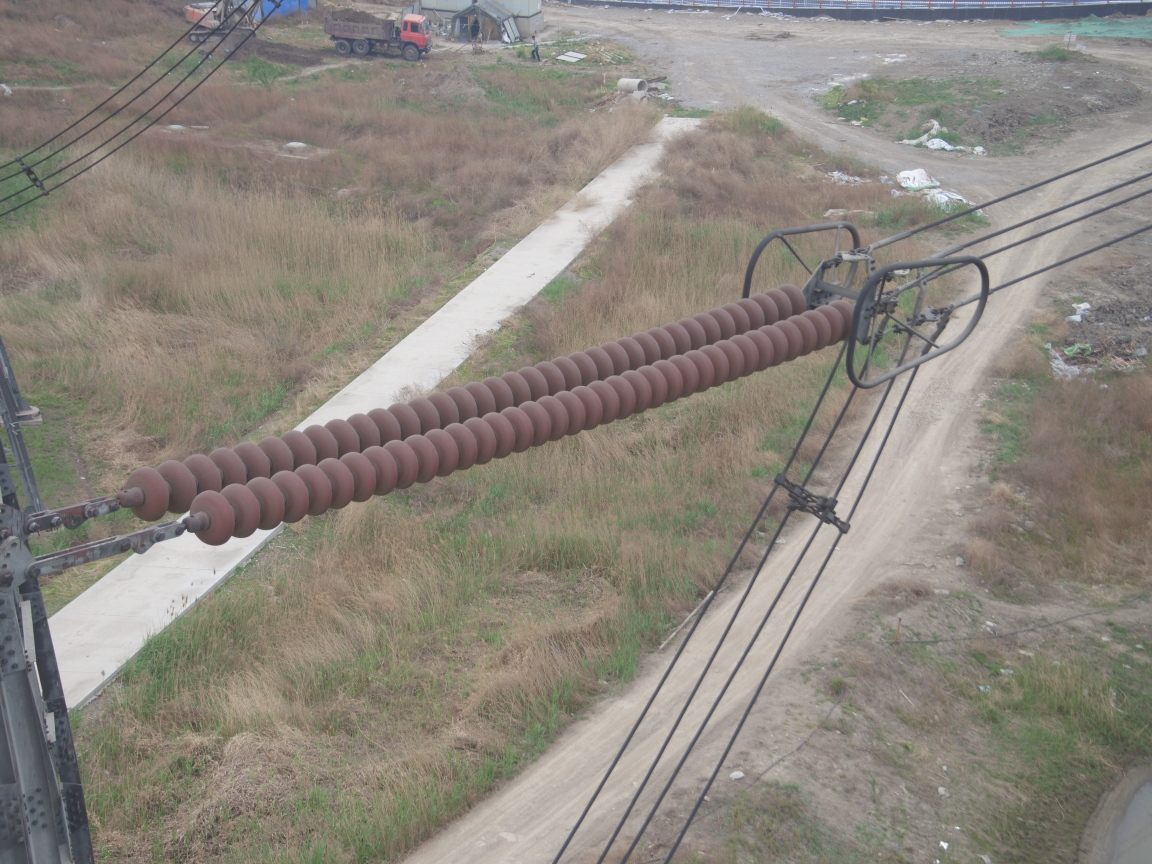insulator: (101, 282, 864, 551)
